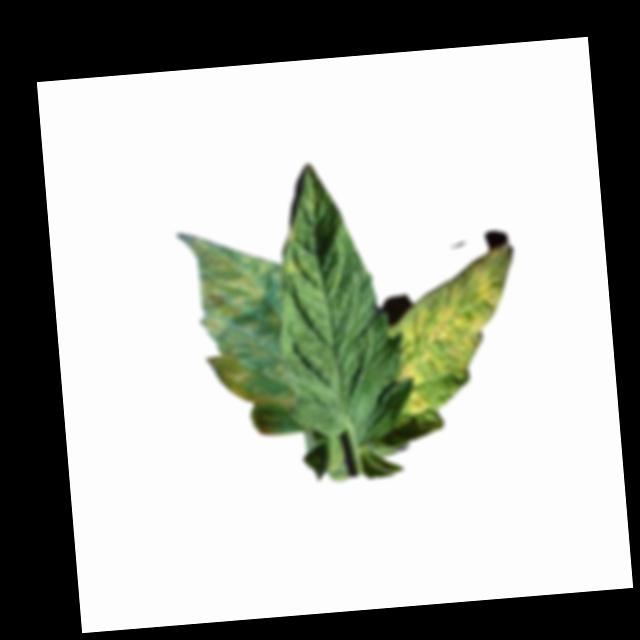Leaf_Mold: (380, 238, 527, 415), (178, 223, 295, 441), (279, 227, 307, 272)
